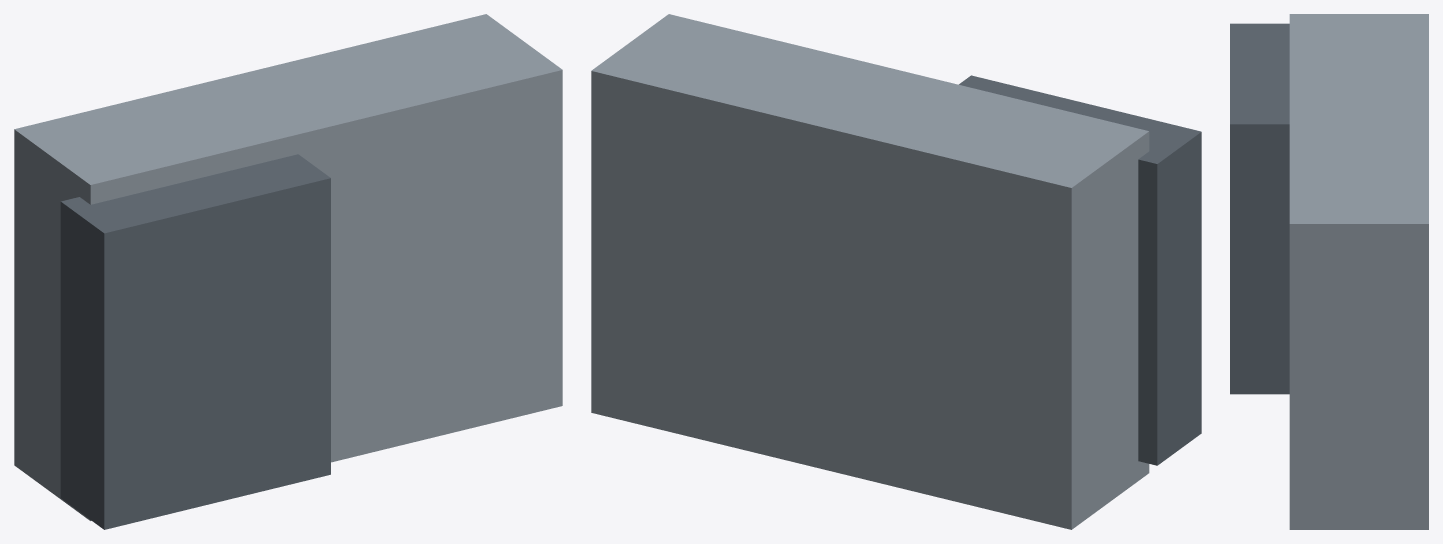
Rendered from inf_driver_part_buckle.fbx.
The picture shows the model from 3 angles, left to right: view 1: azimuth 30°, elevation 25°; view 2: azimuth 150°, elevation 25°; view 3: azimuth 270°, elevation 25°; orthographic projection. The views are drawn at different scales.
Parts seen in each view (by area): view 1: inf_driver_part_buckle; view 2: inf_driver_part_buckle; view 3: inf_driver_part_buckle.
Boxes of the visible parts, x1=… form: inf_driver_part_buckle: x1=14, y1=14, x2=562, y2=529; inf_driver_part_buckle: x1=591, y1=14, x2=1201, y2=529; inf_driver_part_buckle: x1=1230, y1=14, x2=1428, y2=529.
Size of the model in its own units: 52 by 34 by 20.
